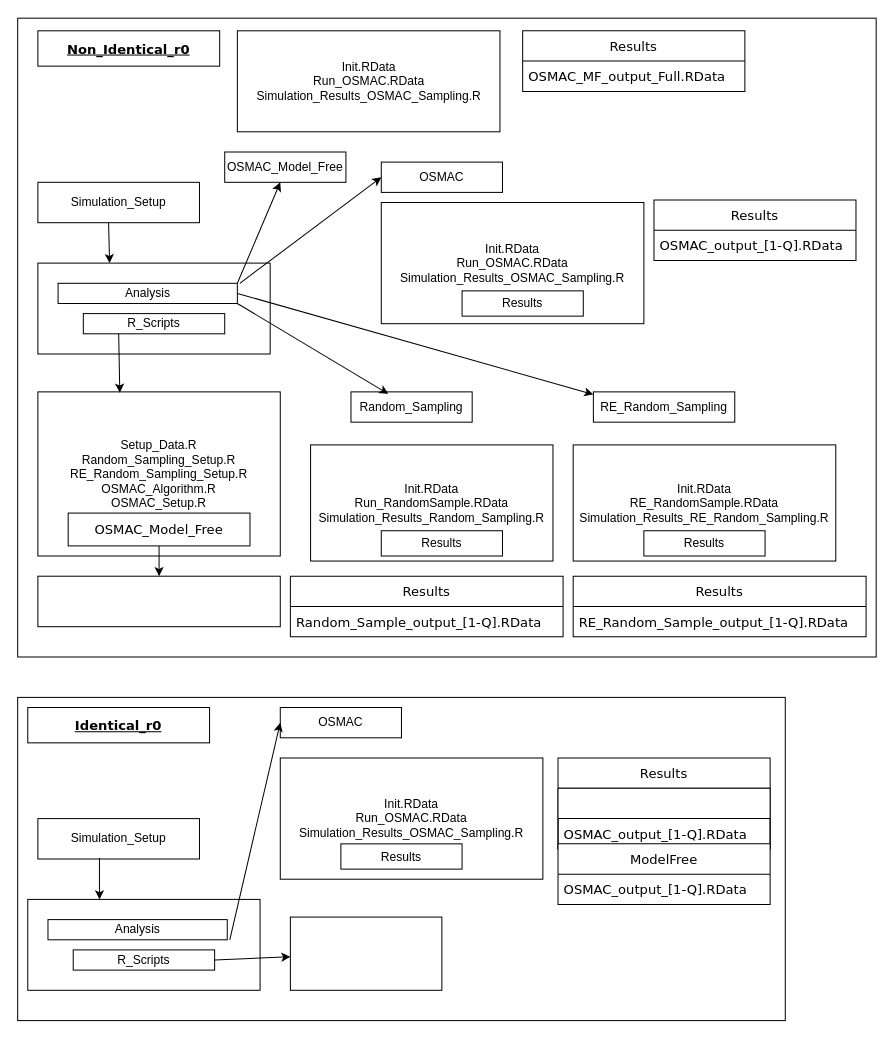
The diagram is 894 pixels wide and 1038 high, and some of its shapes have lost their labels. Here are the shapes that lost their labels. From the top down, the box of each, then its label:
(37, 575, 280, 627): OSMAC_Algorithm_Model_Free.R OSMAC_Model_Free_Setup.R
(557, 787, 770, 849): Single_Model
(289, 916, 442, 990): Setup_Data.R OSMAC_Algorithm.R OSMAC_Setup.R
